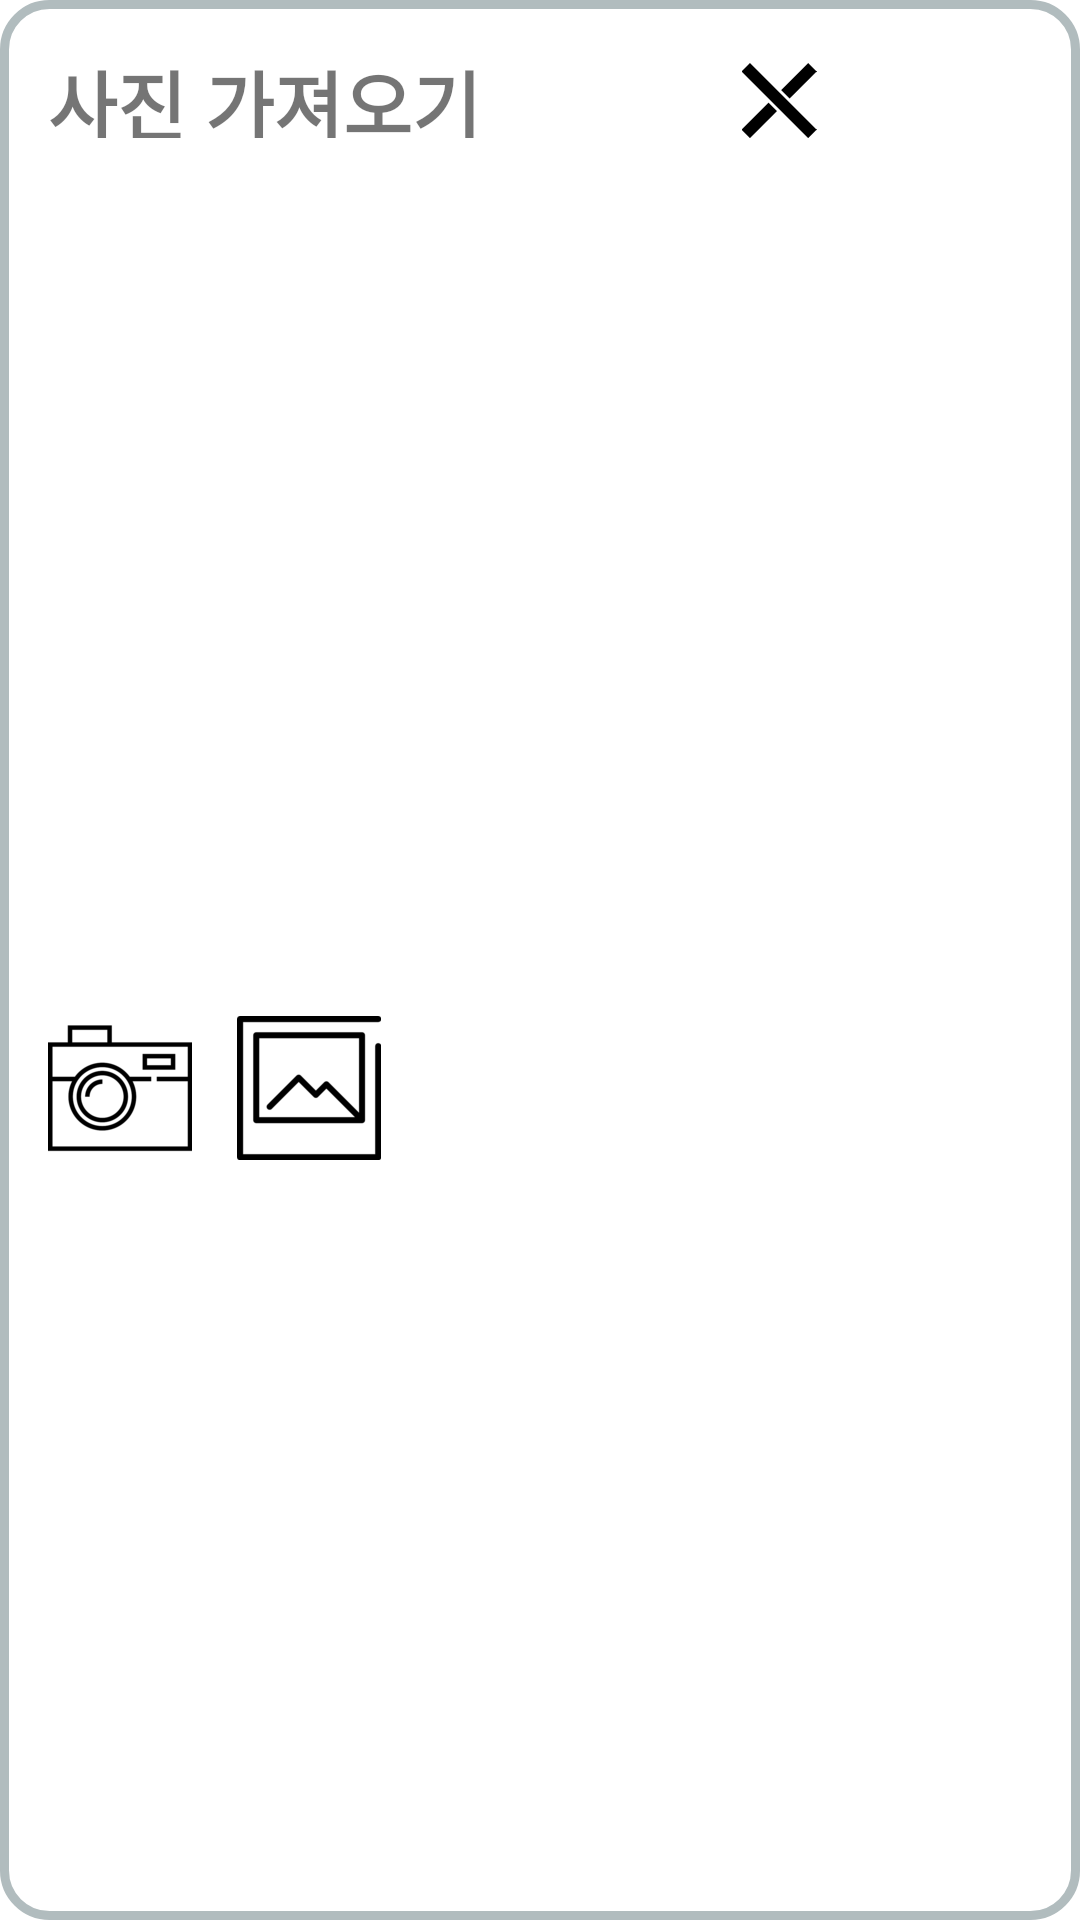

Icon click points for this 1080x1920 phone screenshot, format (x,y):
camera: (120,1088)
